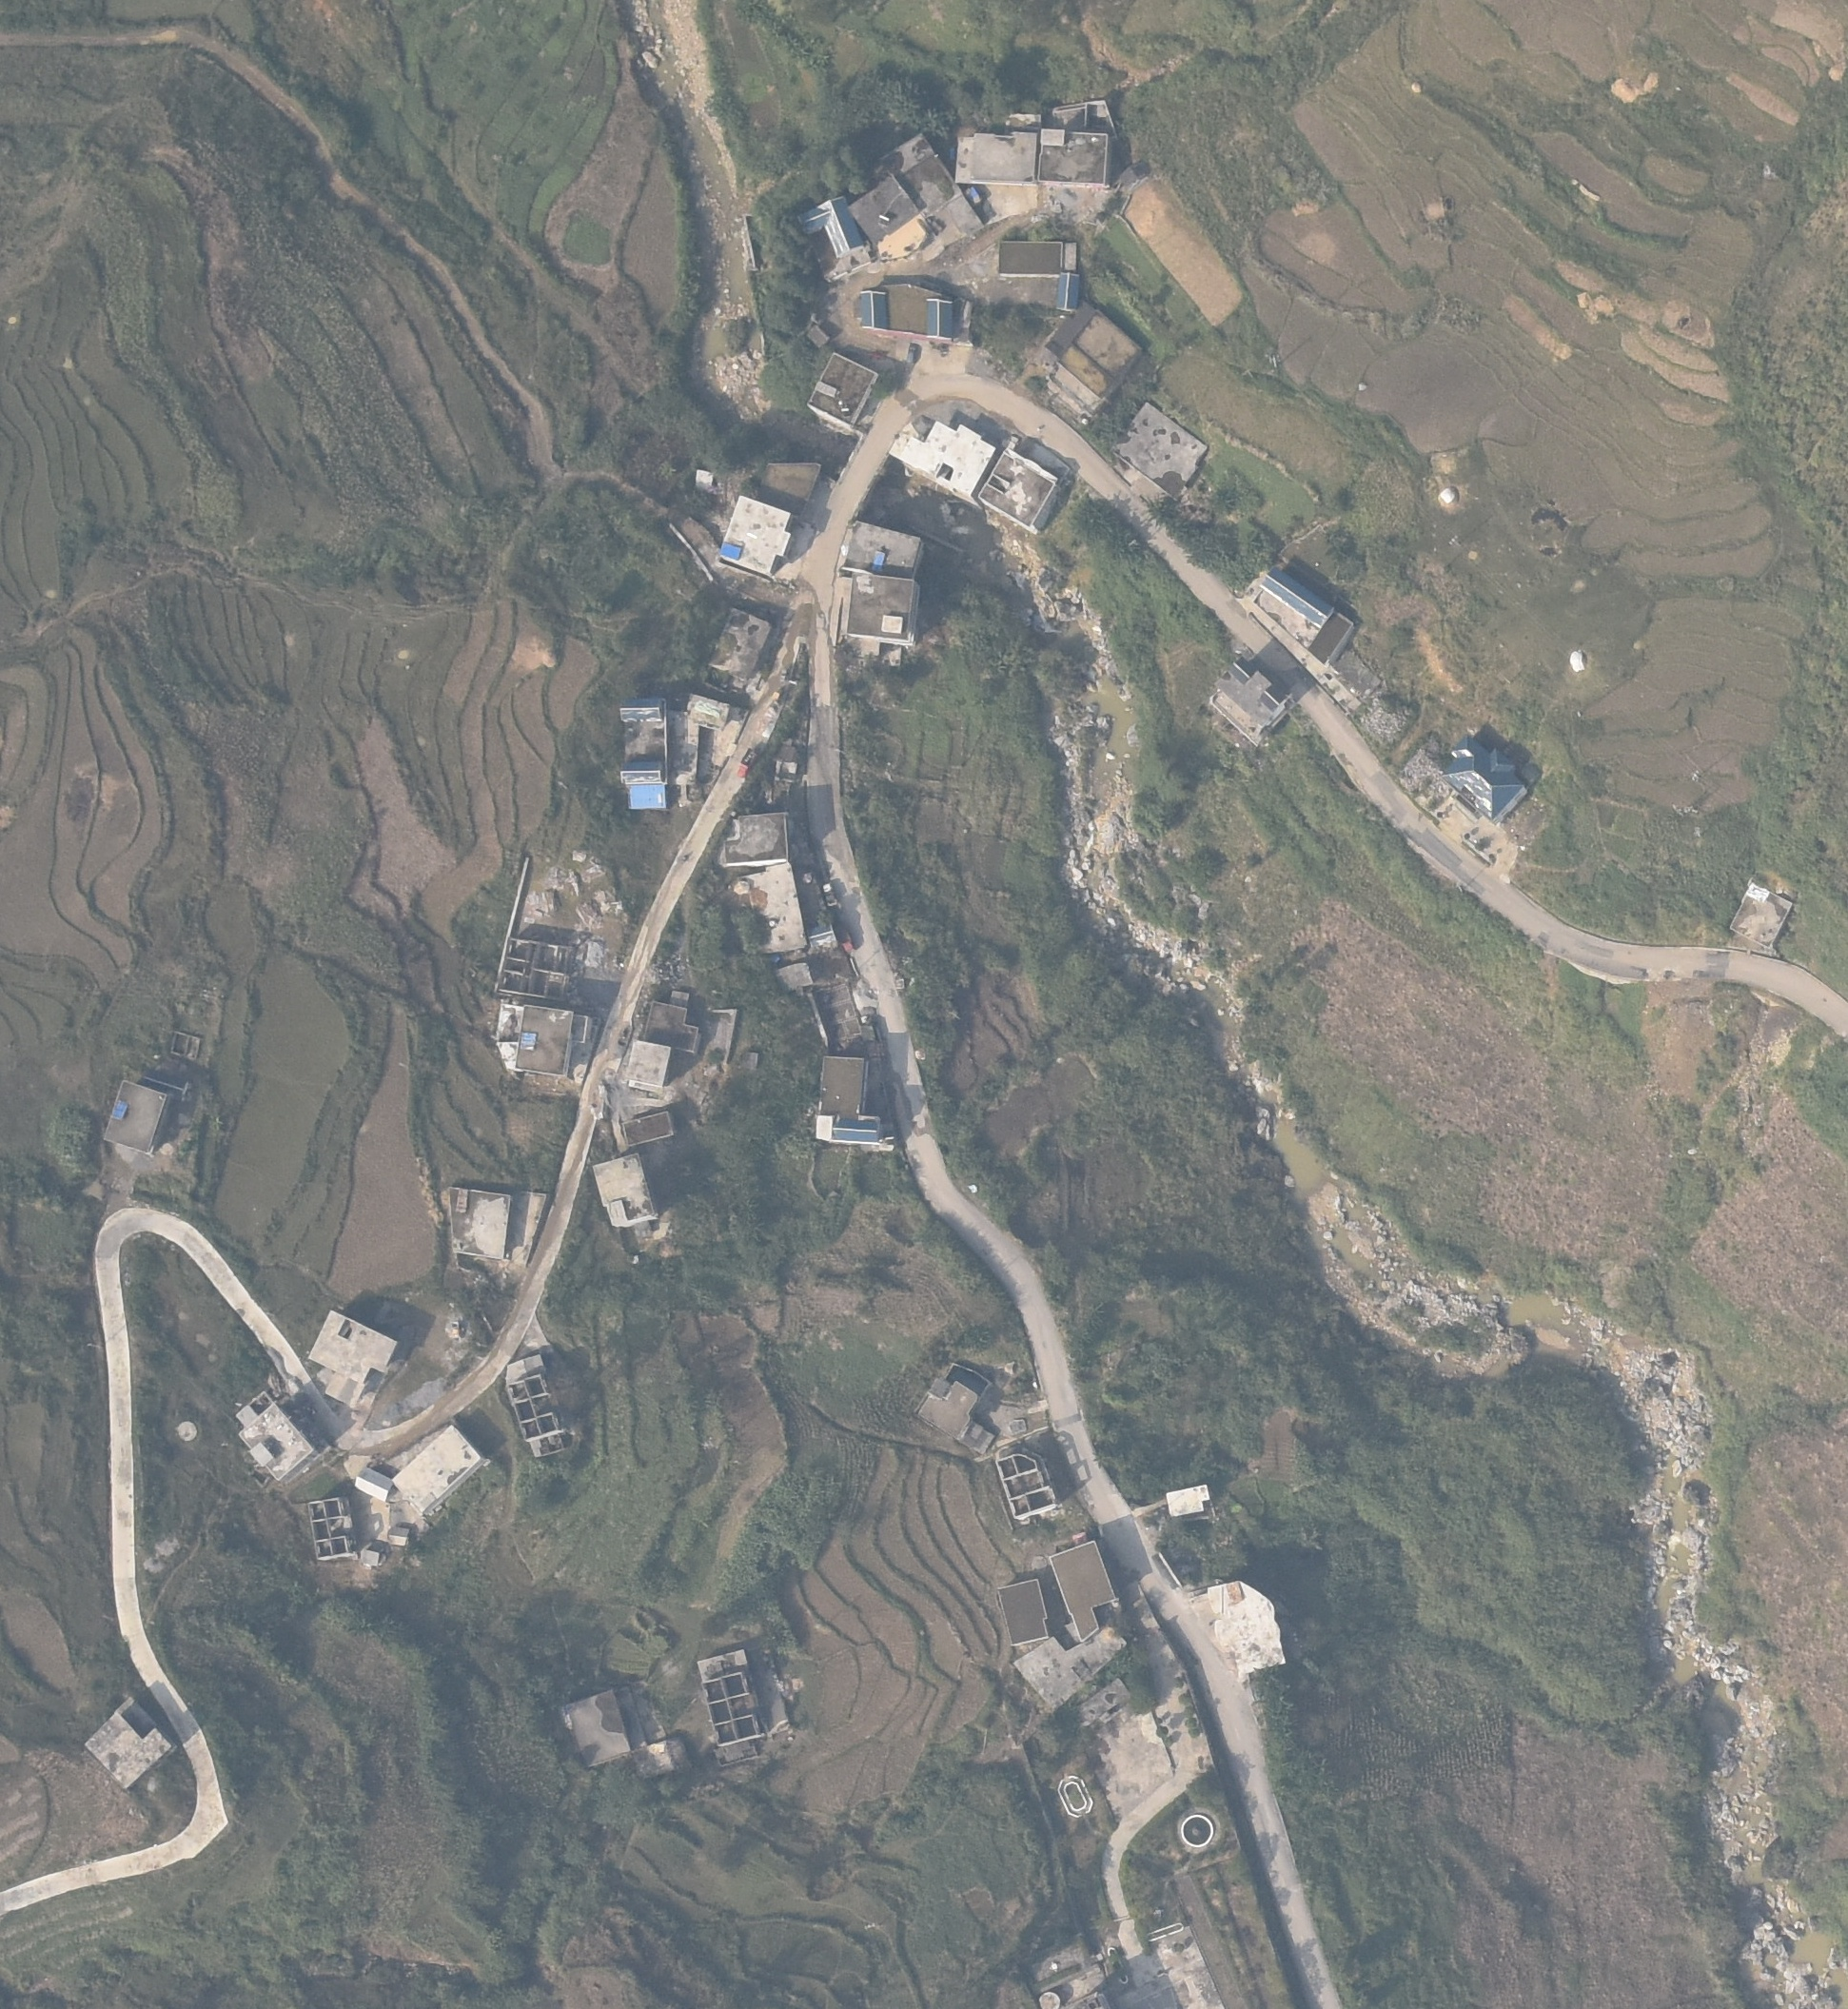building: (443, 1158, 553, 1272), (1041, 301, 1144, 422), (807, 1043, 912, 1158), (303, 1295, 401, 1412), (1200, 1582, 1309, 1685), (884, 408, 994, 502), (1111, 401, 1211, 502), (693, 1647, 784, 1752), (499, 1354, 581, 1470), (390, 1424, 488, 1519), (492, 1003, 598, 1085), (1013, 1631, 1127, 1708), (1444, 716, 1528, 819), (82, 1701, 177, 1788), (229, 1395, 324, 1482), (1206, 656, 1300, 742), (975, 446, 1059, 537), (709, 495, 800, 577), (833, 570, 927, 649), (584, 1153, 682, 1228), (1046, 1540, 1122, 1636), (906, 1377, 1006, 1447), (700, 600, 782, 682), (495, 906, 581, 984), (731, 864, 802, 954), (96, 1076, 175, 1155), (549, 1697, 633, 1769), (810, 346, 875, 430), (952, 124, 1038, 187), (847, 171, 922, 243), (1258, 560, 1340, 625), (983, 1458, 1073, 1517), (712, 805, 802, 863), (789, 199, 864, 268), (1038, 126, 1116, 191), (992, 1578, 1059, 1645), (299, 1496, 359, 1568), (1727, 882, 1792, 947), (1150, 1479, 1223, 1529), (996, 234, 1067, 278), (677, 691, 742, 733), (626, 1032, 670, 1090), (630, 1741, 691, 1781), (854, 287, 896, 331), (618, 754, 681, 782), (922, 296, 955, 341), (355, 1465, 395, 1500), (616, 698, 672, 723), (385, 1521, 416, 1550), (357, 1542, 387, 1570), (1062, 273, 1078, 313)
prefabricated-house: (842, 518, 924, 570), (640, 987, 703, 1052), (619, 1109, 679, 1148), (626, 784, 672, 812), (808, 924, 838, 948), (719, 537, 744, 562), (520, 1024, 537, 1055), (112, 1094, 128, 1123), (871, 544, 887, 574)
vehicle: (906, 343, 919, 364)
well: (1165, 1804, 1225, 1860), (1038, 1991, 1060, 2007)
